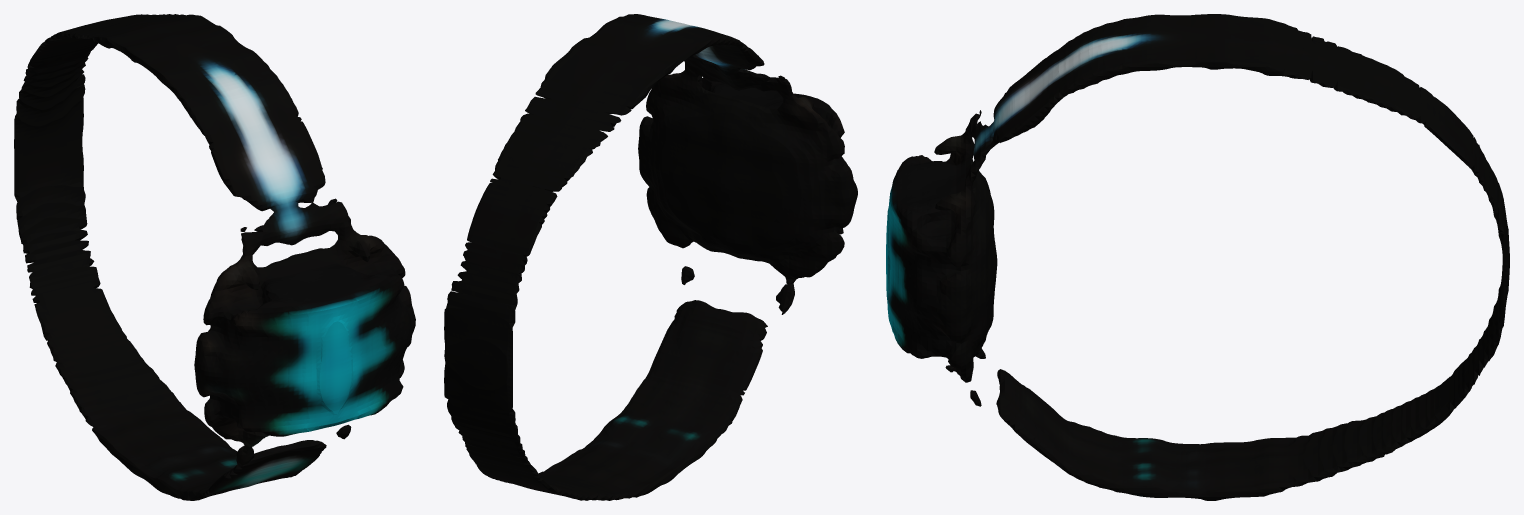
Rendered from clock_mesh_3.obj.
3 views of the same model, side by side, from view 1: azimuth 30°, elevation 25°; view 2: azimuth 150°, elevation 25°; view 3: azimuth 270°, elevation 25° (orthographic). The views are drawn at different scales.
Bounding box in the file's own units: 0.8212 × 1.54 × 1.98.
